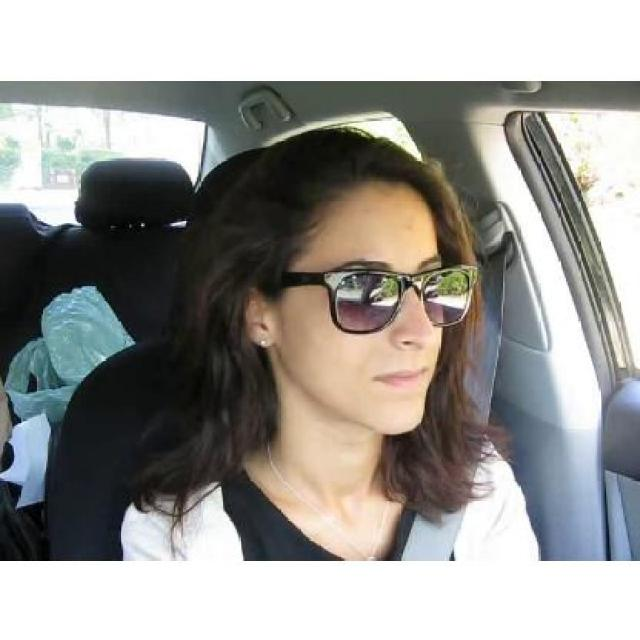attentif: (237, 128, 477, 432)
